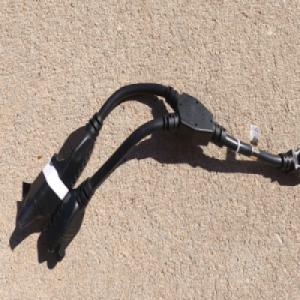Wire: (16, 80, 300, 264)
